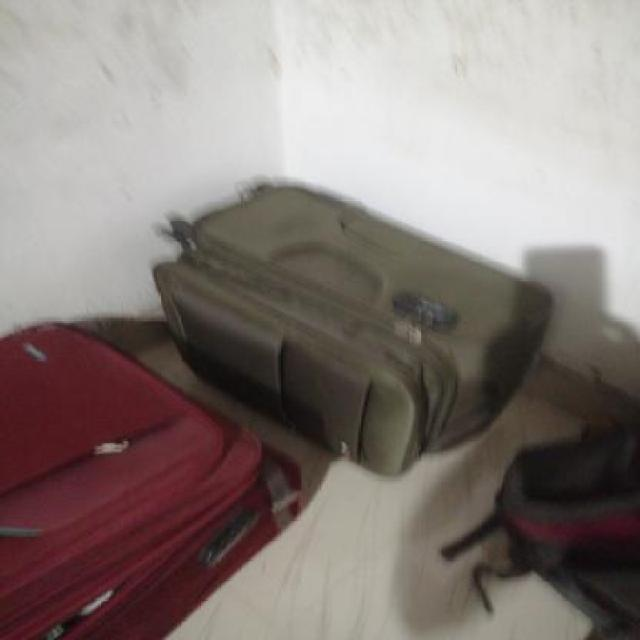backpack: (474, 417, 640, 626)
